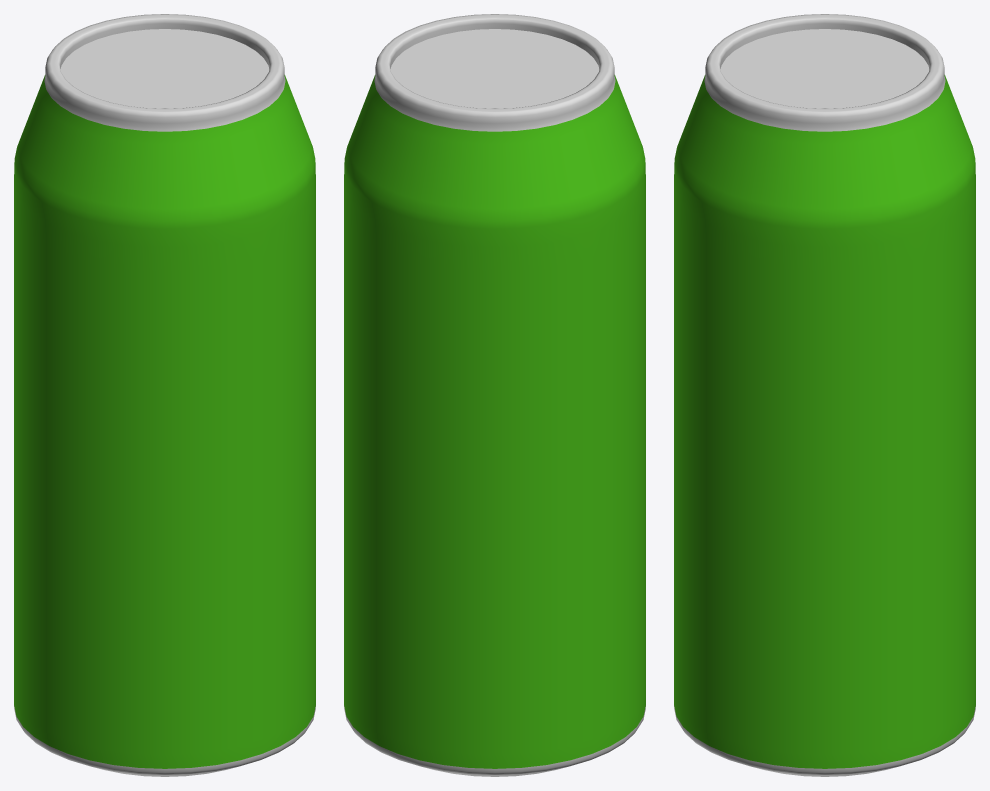
File: beer02.fbx
3 views of the same model, side by side, from view 1: azimuth 30°, elevation 25°; view 2: azimuth 150°, elevation 25°; view 3: azimuth 270°, elevation 25° (orthographic).
Parts seen in each view (by area): view 1: beer; view 2: beer; view 3: beer.
Part boxes in pixels (left/top/right/bottom): beer: left=14, top=14, right=315, bottom=776; beer: left=344, top=14, right=645, bottom=776; beer: left=674, top=14, right=975, bottom=776.
Bounding box in the file's own units: 13.91 × 33.69 × 13.91.
